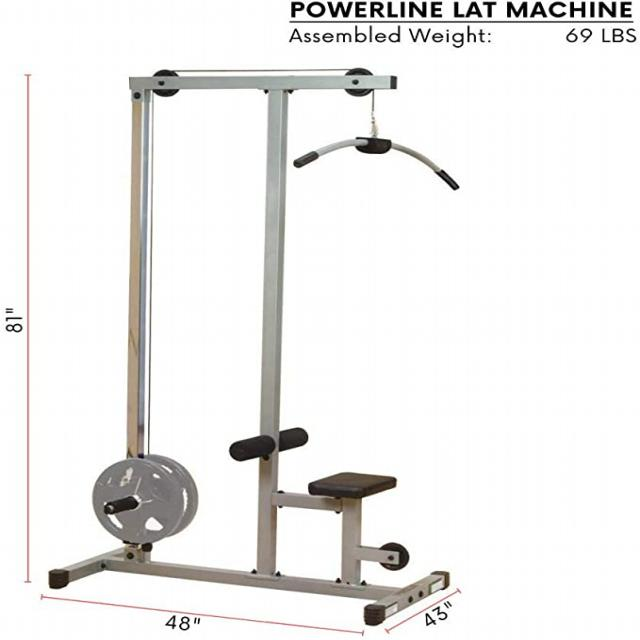Lat Machine: (41, 61, 528, 632)
